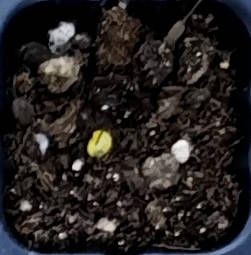pepper seed: (30, 50, 142, 209)
